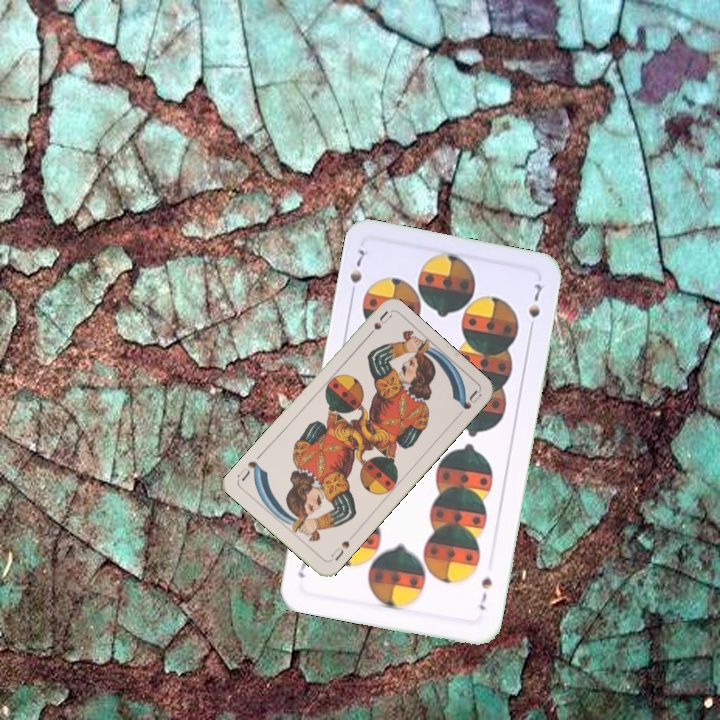S7: (346, 245, 368, 301), (475, 573, 495, 613)
SU: (361, 308, 394, 343), (326, 531, 357, 563)
